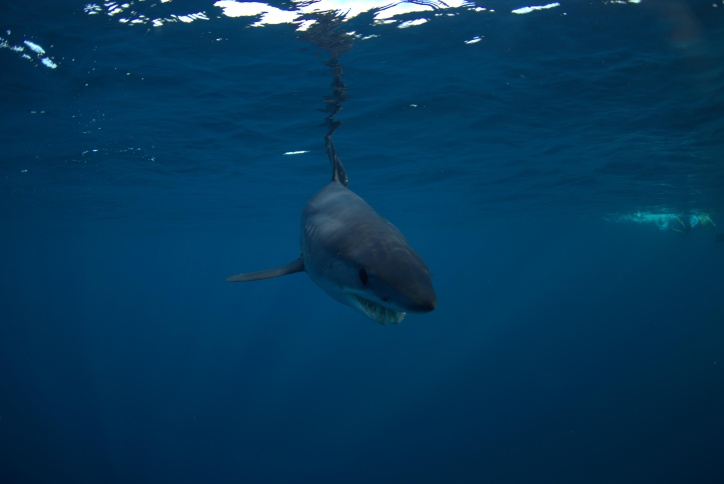Mako: (218, 143, 447, 334)
